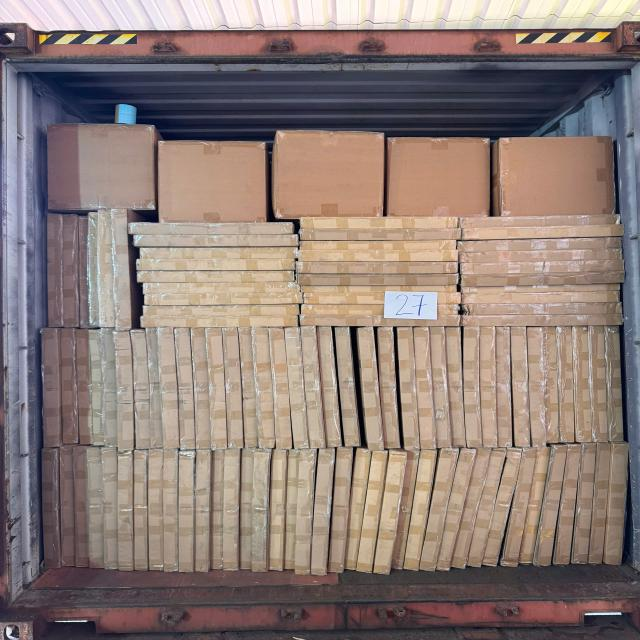Carton: (273, 129, 383, 218), (498, 139, 618, 219), (159, 139, 270, 225), (44, 125, 154, 211), (388, 138, 490, 221), (449, 448, 492, 568), (437, 448, 478, 570), (390, 450, 422, 569), (374, 452, 404, 574), (426, 449, 456, 569), (360, 449, 389, 571), (344, 450, 373, 572), (283, 328, 312, 450), (488, 450, 518, 566), (326, 449, 354, 572), (356, 327, 384, 450), (506, 448, 535, 566), (299, 326, 326, 451), (473, 450, 502, 565), (222, 326, 248, 454), (605, 444, 632, 566), (334, 326, 360, 451), (268, 327, 294, 451), (539, 449, 566, 568), (376, 327, 402, 450), (409, 452, 436, 570), (204, 326, 228, 456), (310, 448, 334, 576), (293, 448, 317, 576), (317, 324, 341, 450), (397, 326, 421, 452), (524, 450, 549, 570), (412, 325, 436, 450), (587, 445, 612, 565), (42, 326, 67, 446), (174, 328, 198, 450), (251, 327, 275, 449), (157, 328, 181, 449), (429, 322, 451, 451), (556, 448, 580, 566), (460, 270, 625, 287), (40, 446, 62, 570), (572, 448, 595, 566), (190, 327, 212, 450), (111, 208, 133, 329), (129, 329, 151, 450), (114, 329, 136, 450), (457, 236, 622, 252), (460, 259, 625, 275), (238, 328, 260, 448), (462, 224, 625, 240), (459, 248, 622, 264), (508, 325, 529, 447), (462, 322, 482, 450), (446, 323, 466, 450), (480, 322, 500, 449), (494, 323, 514, 449), (72, 444, 92, 570), (252, 448, 272, 573), (195, 451, 216, 570), (59, 328, 80, 447), (588, 325, 609, 443), (86, 446, 106, 569), (572, 325, 593, 442), (220, 450, 240, 572), (527, 325, 547, 447), (459, 214, 621, 229), (269, 453, 289, 574), (146, 451, 166, 570), (461, 290, 619, 305), (556, 325, 576, 443), (74, 328, 94, 446), (282, 449, 301, 571), (294, 260, 459, 274), (177, 449, 196, 570), (298, 314, 461, 328), (461, 313, 624, 327), (162, 450, 181, 569), (299, 272, 459, 286), (138, 246, 298, 260), (303, 291, 463, 305), (136, 258, 295, 272), (136, 270, 295, 284), (144, 292, 303, 306), (605, 325, 624, 442), (58, 446, 76, 568), (128, 222, 295, 235), (45, 213, 64, 327), (116, 451, 134, 571), (133, 234, 298, 247), (101, 328, 119, 447), (299, 228, 462, 241), (88, 329, 106, 446), (462, 302, 623, 315), (237, 448, 254, 571), (300, 303, 460, 316), (140, 315, 298, 328), (98, 208, 115, 328), (146, 328, 163, 448), (133, 452, 150, 570), (542, 326, 559, 444), (102, 446, 118, 570), (284, 449, 300, 572), (299, 217, 459, 229), (300, 282, 459, 294), (142, 304, 300, 316), (142, 282, 299, 294), (63, 214, 79, 328), (298, 250, 459, 261), (461, 283, 620, 294), (298, 240, 458, 250), (211, 450, 223, 570), (88, 210, 100, 328), (79, 216, 91, 328)
